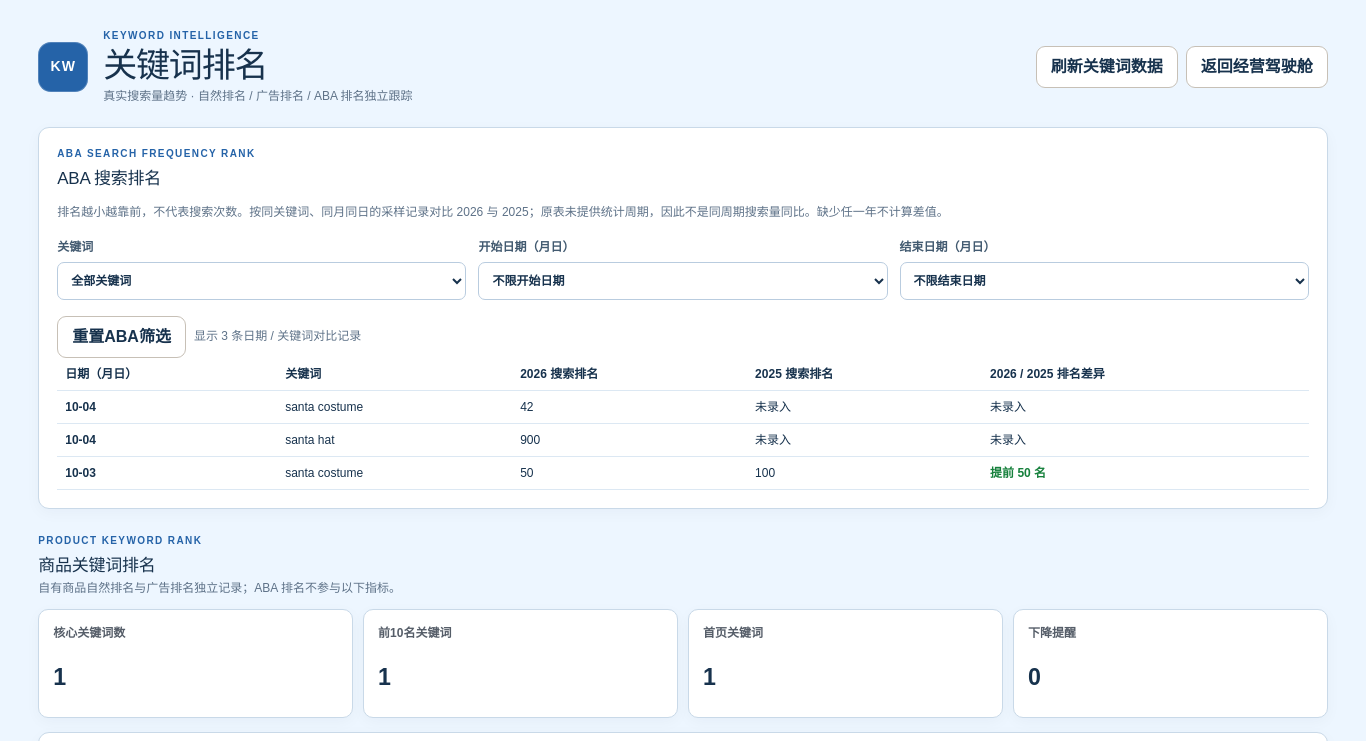
Scenario: ABA keyword and date filters never filter product ranking rows and can be reset
This screenshot has width=1366, height=741.
Check: the cell "提前 50 名" is shown, box [982,457,1309,490]
Select "santa costume" in the dropdown named "ABA关键词": (262, 281) [57,262,466,300]
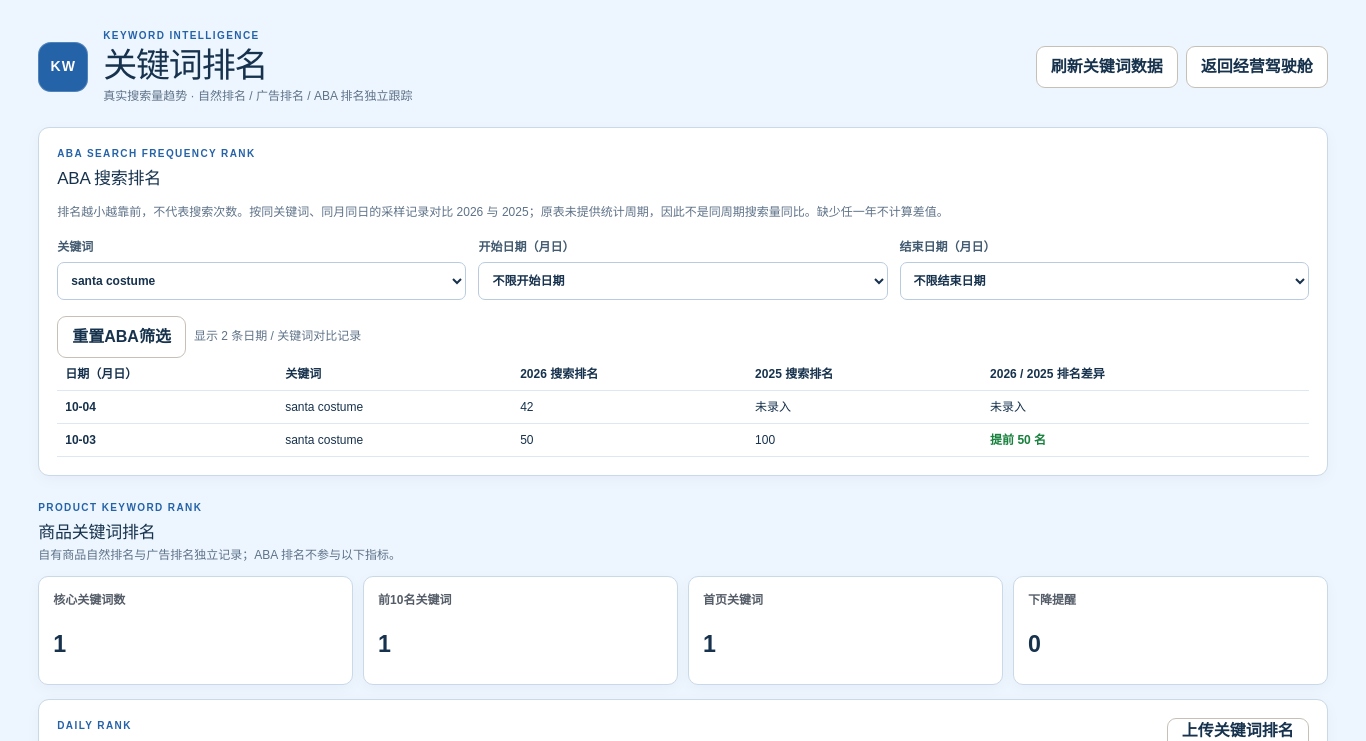
Check: the cell "ABA搜索排名" no longer shows "santa hat"
Select "10-04" in the dropdown named "ABA开始日期（月日）": (683, 281) [478,262,888,300]
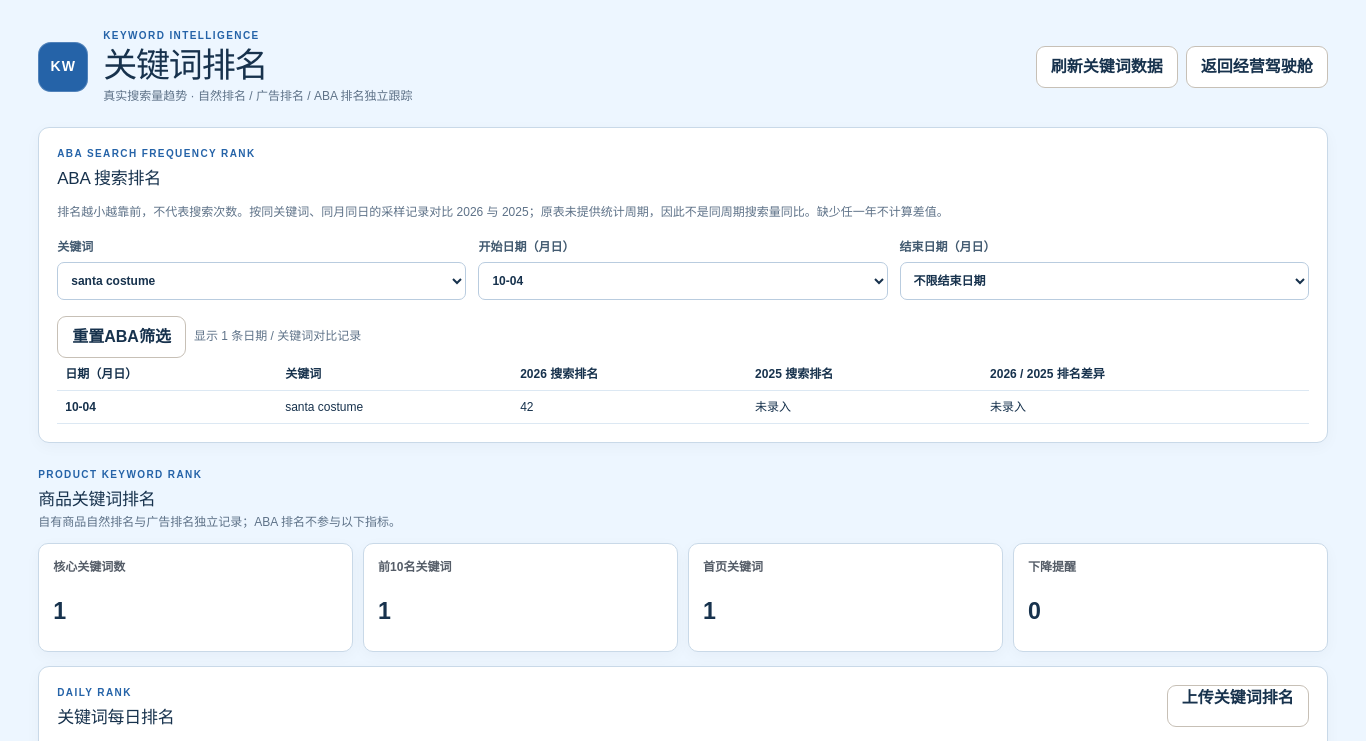
Check: the column heading "ABA搜索排名" no longer shows "10-03"
Select "10-03" in the dropdown named "ABA结束日期（月日）": (1104, 281) [900,262,1309,300]
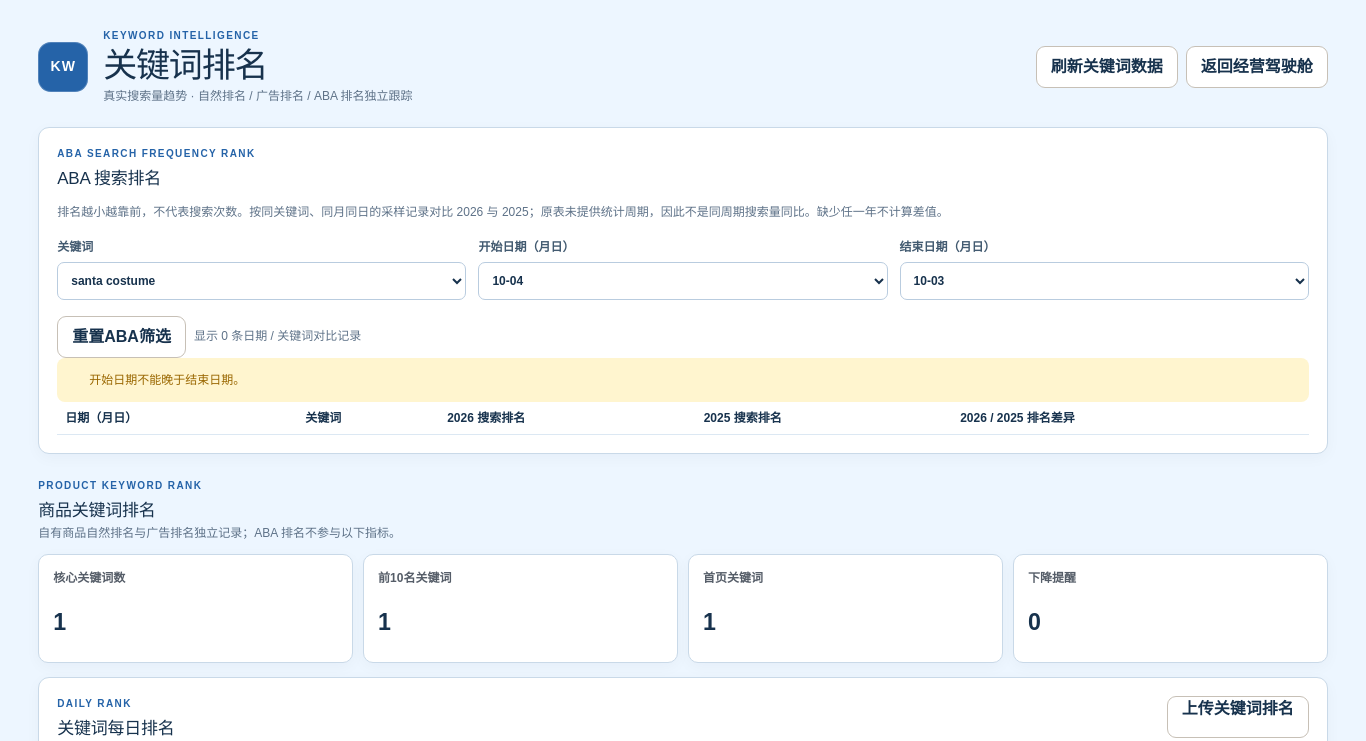
Check: the text "开始日期不能晚于结束日期。" is shown, box [57,358,1309,402]
Check: the cell "42" is gone
Click the button "重置ABA筛选": (122, 337) [57,316,186,358]
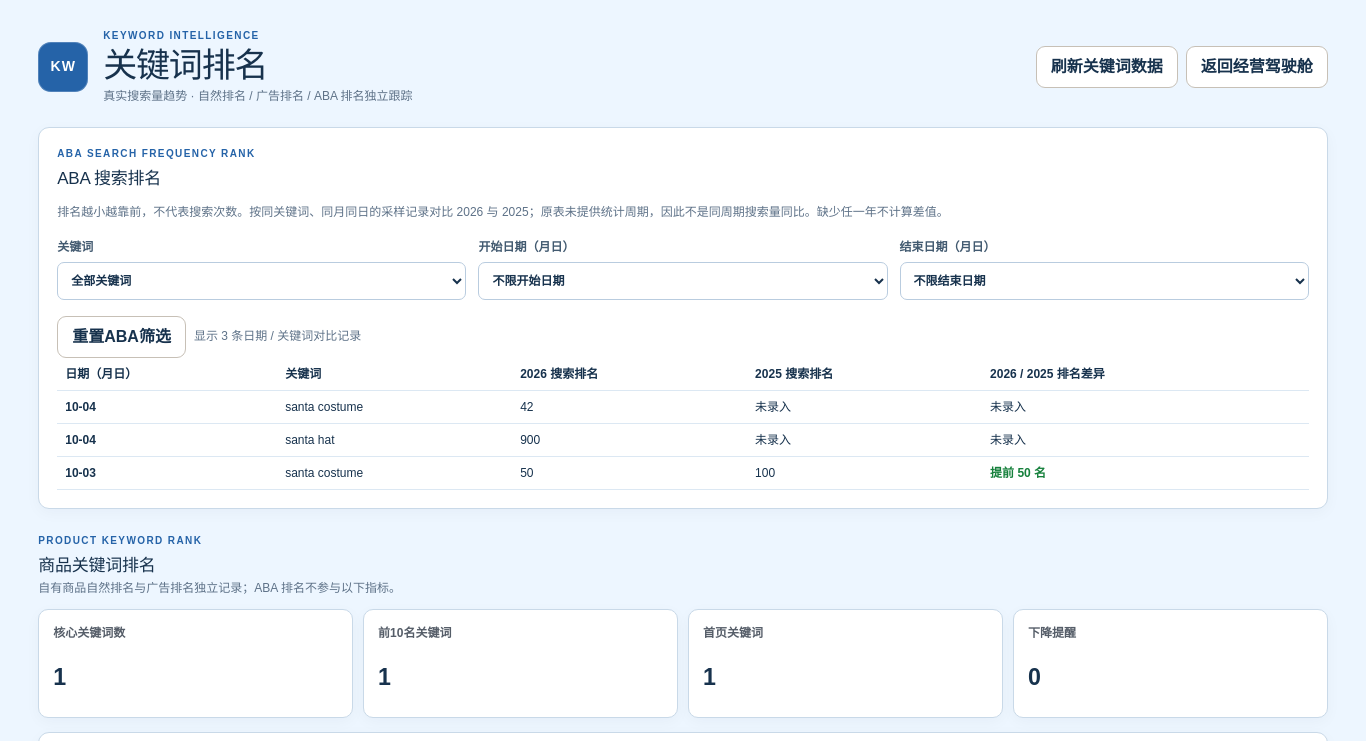
Check: the table named "ABA搜索排名" shows "santa hat", box [285,433,335,447]
Check: the table named "ABA搜索排名" shows "10-03", box [65,466,96,480]
